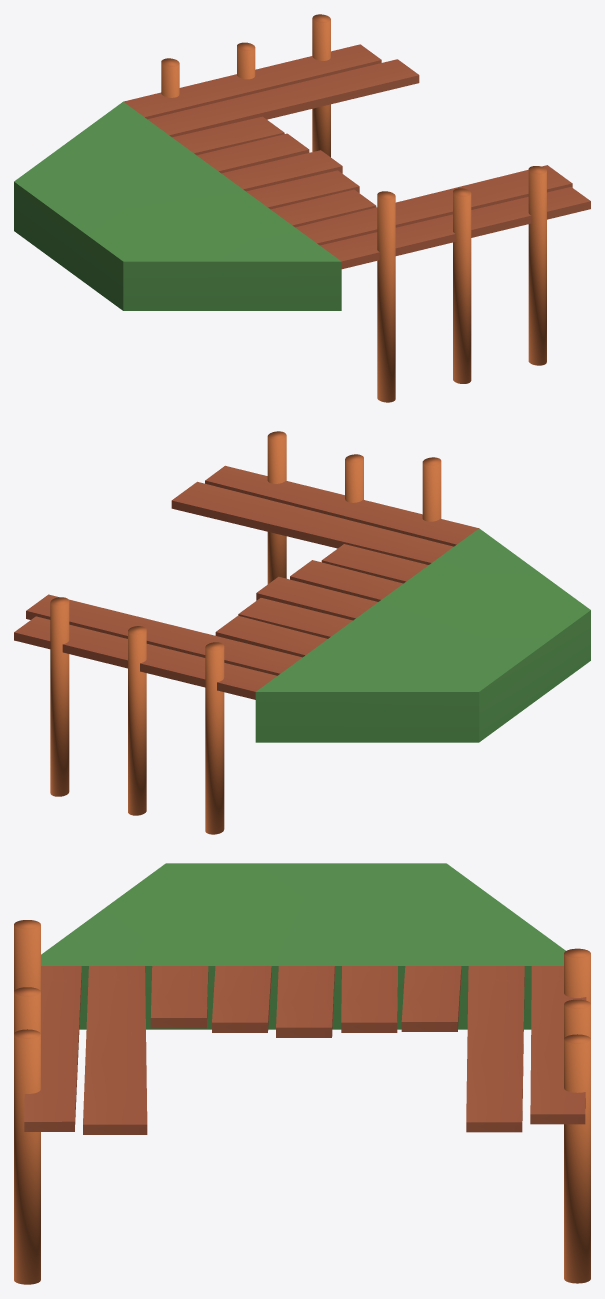
The model's file is forestPlayersShipPort.fbx.
3 views of the same model, one above another, from view 1: azimuth 30°, elevation 25°; view 2: azimuth 150°, elevation 25°; view 3: azimuth 270°, elevation 25° (orthographic). The views are drawn at different scales.
Visible parts, largest first — view 1: Cylinder, Cube, Cylinder.001; view 2: Cylinder, Cube, Cylinder.001; view 3: Cube, Cylinder, Cylinder.001.
Part boxes in pixels (<box>): Cylinder: <box>14,102,341,310</box>; Cube: <box>123,44,590,269</box>; Cylinder.001: <box>161,14,546,402</box>; Cylinder: <box>255,528,590,742</box>; Cube: <box>14,465,478,699</box>; Cylinder.001: <box>50,431,441,834</box>; Cube: <box>24,966,586,1134</box>; Cylinder: <box>41,863,565,1029</box>; Cylinder.001: <box>14,920,590,1284</box>.
Size of the model in its own units: 4.41 by 2.05 by 4.11.
Materials: 2 (2 with a texture image).
